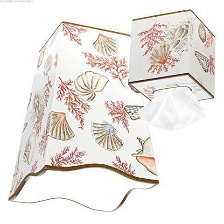plastic_box: (2, 16, 164, 217), (122, 6, 221, 108)
tissue: (132, 83, 209, 137)
